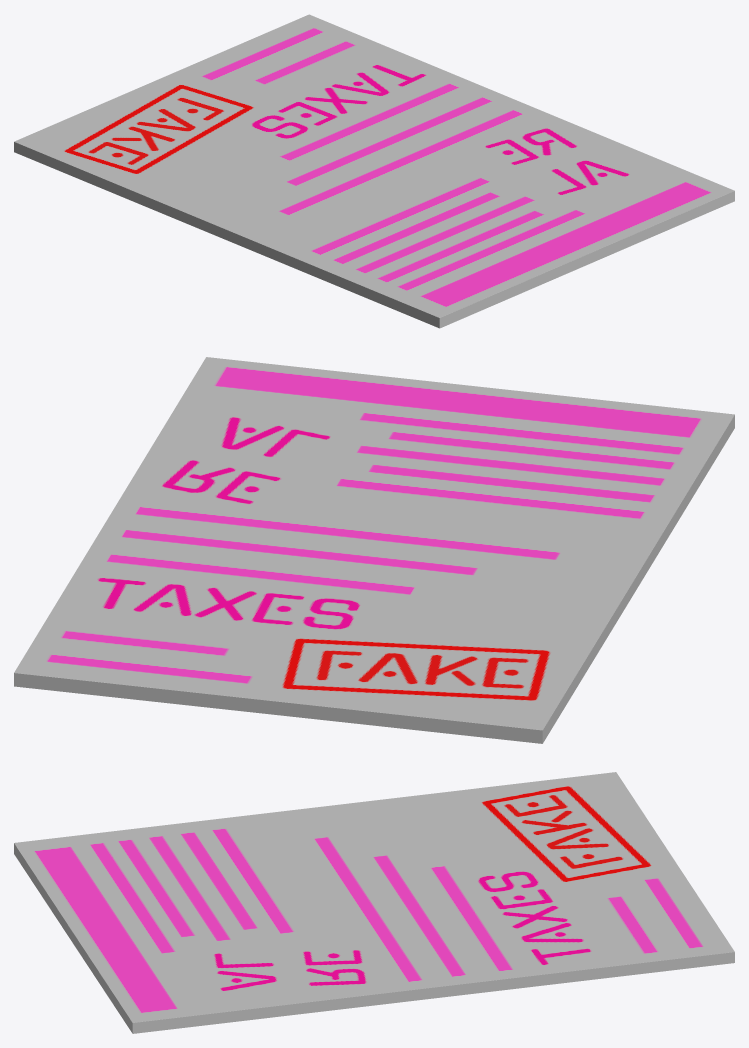
The model's file is Fake3.fbx.
The picture shows the model from 3 angles, top to bottom: view 1: azimuth 30°, elevation 25°; view 2: azimuth 150°, elevation 25°; view 3: azimuth 270°, elevation 25°; orthographic projection. The views are drawn at different scales.
Visible parts, largest first — view 1: Fake3, Cube; view 2: Fake3, Cube; view 3: Fake3, Cube.
Boxes of the visible parts, x1,y1,x2,y2 form: Fake3: [14, 14, 734, 317]; Cube: [14, 142, 734, 328]; Fake3: [14, 357, 734, 730]; Cube: [14, 415, 734, 743]; Fake3: [14, 772, 734, 1022]; Cube: [14, 843, 734, 1033].
Bounding box in the file's own units: 94.98 × 1.94 × 115.
